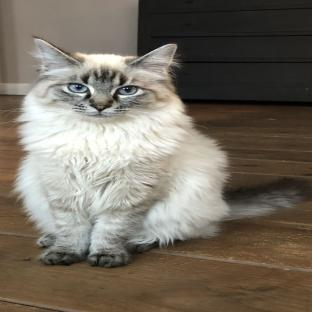Animal: (14, 37, 310, 268)
